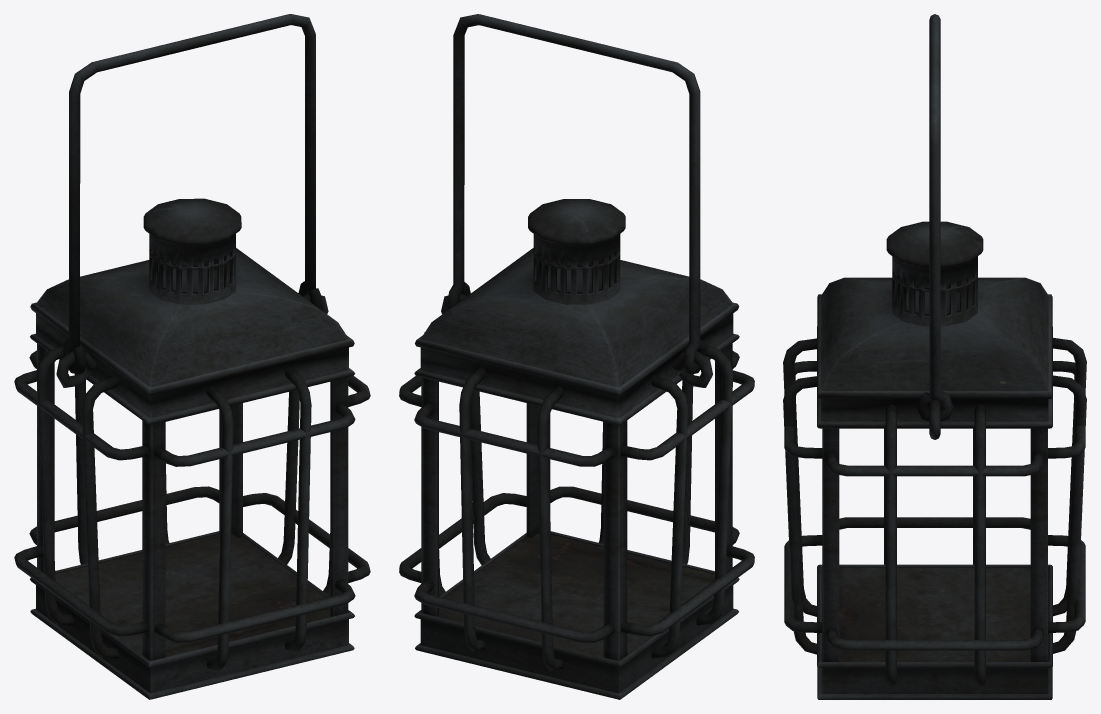
The model's file is lantern.fbx.
3 views of the same model, side by side, from view 1: azimuth 30°, elevation 25°; view 2: azimuth 150°, elevation 25°; view 3: azimuth 270°, elevation 25° (orthographic).
Parts seen in each view (by area): view 1: B11_chandelier; view 2: B11_chandelier; view 3: B11_chandelier.
Boxes of the visible parts, x1,y1,x2,y2 form: B11_chandelier: (14,14,370,699); B11_chandelier: (399,14,754,699); B11_chandelier: (783,14,1086,699).
Bounding box in the file's own units: 29.39 × 61.55 × 28.8.
1 material, 1 textured.
